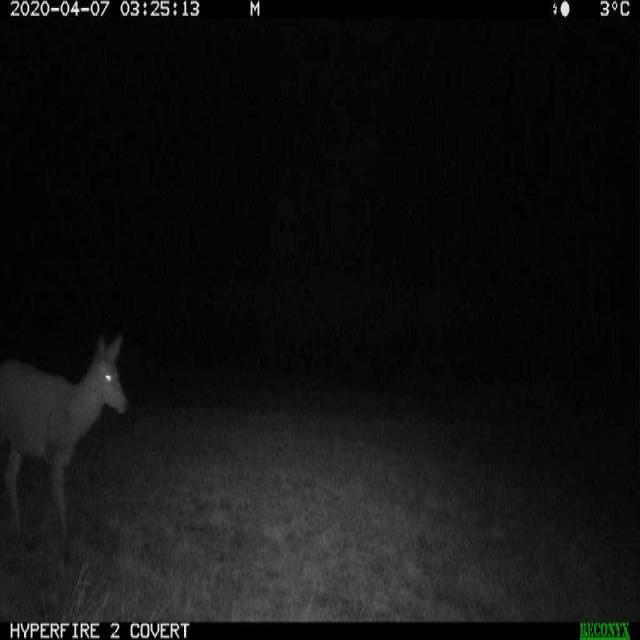deer: (2, 316, 137, 568)
